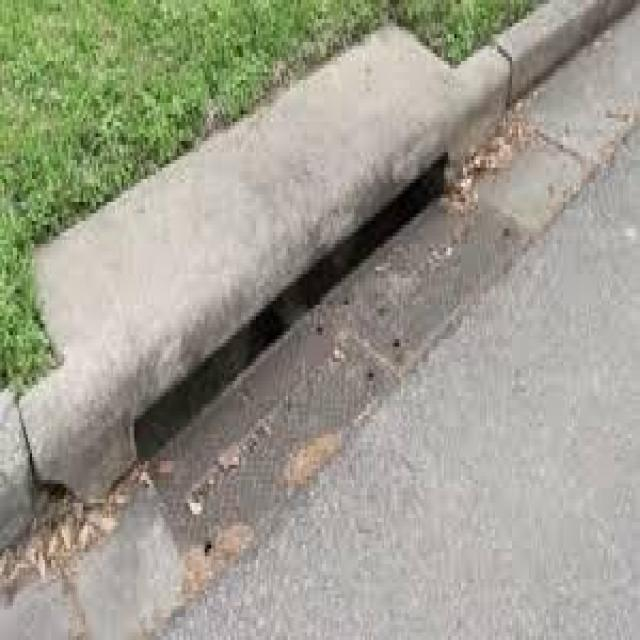curb: (1, 151, 359, 522), (321, 20, 492, 266), (439, 1, 636, 93)
